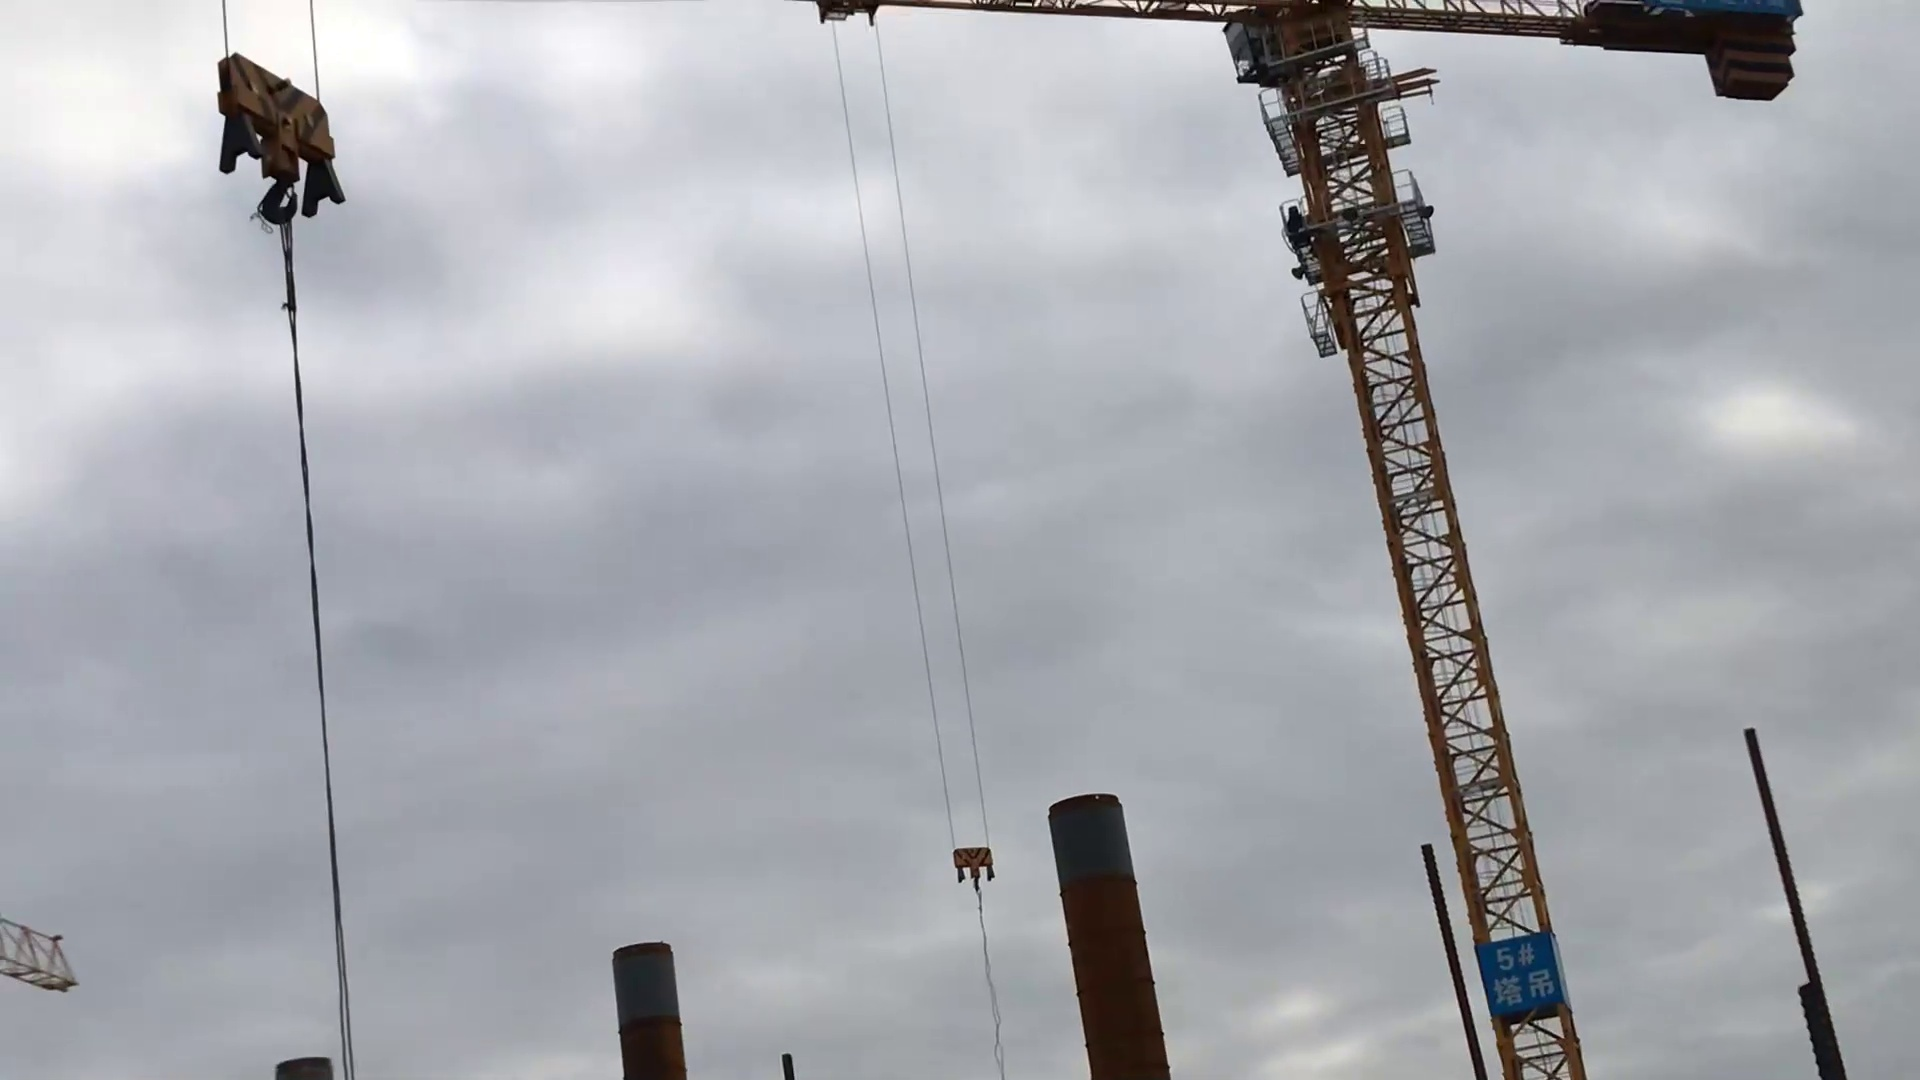hook: (195, 47, 353, 244)
